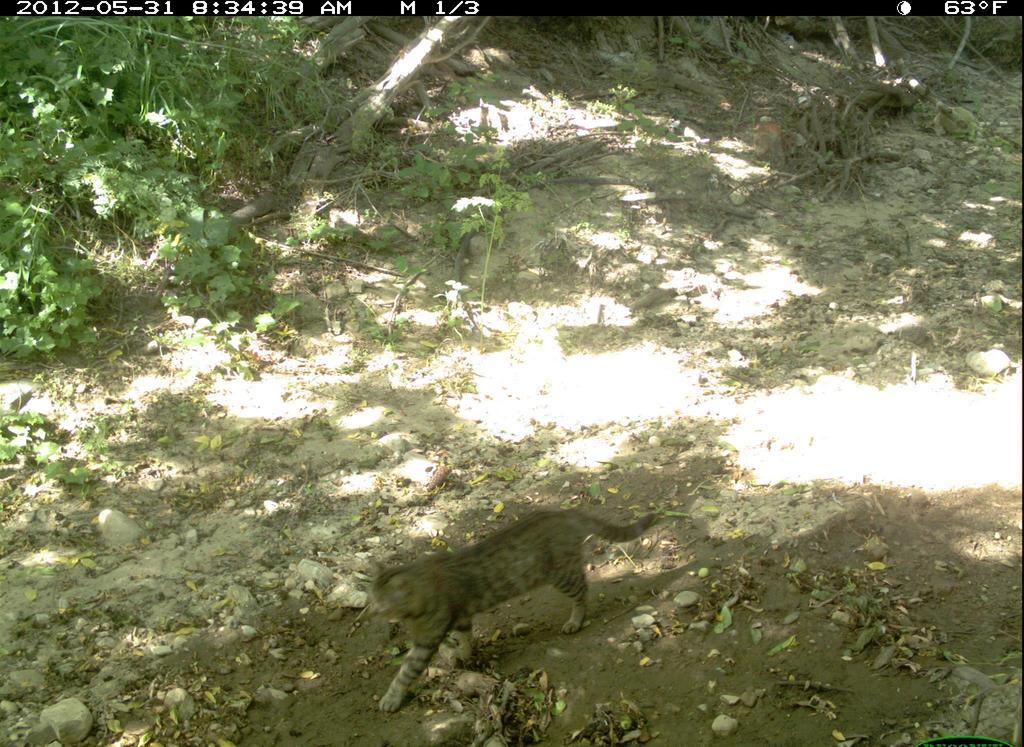cat: (345, 493, 681, 722)
